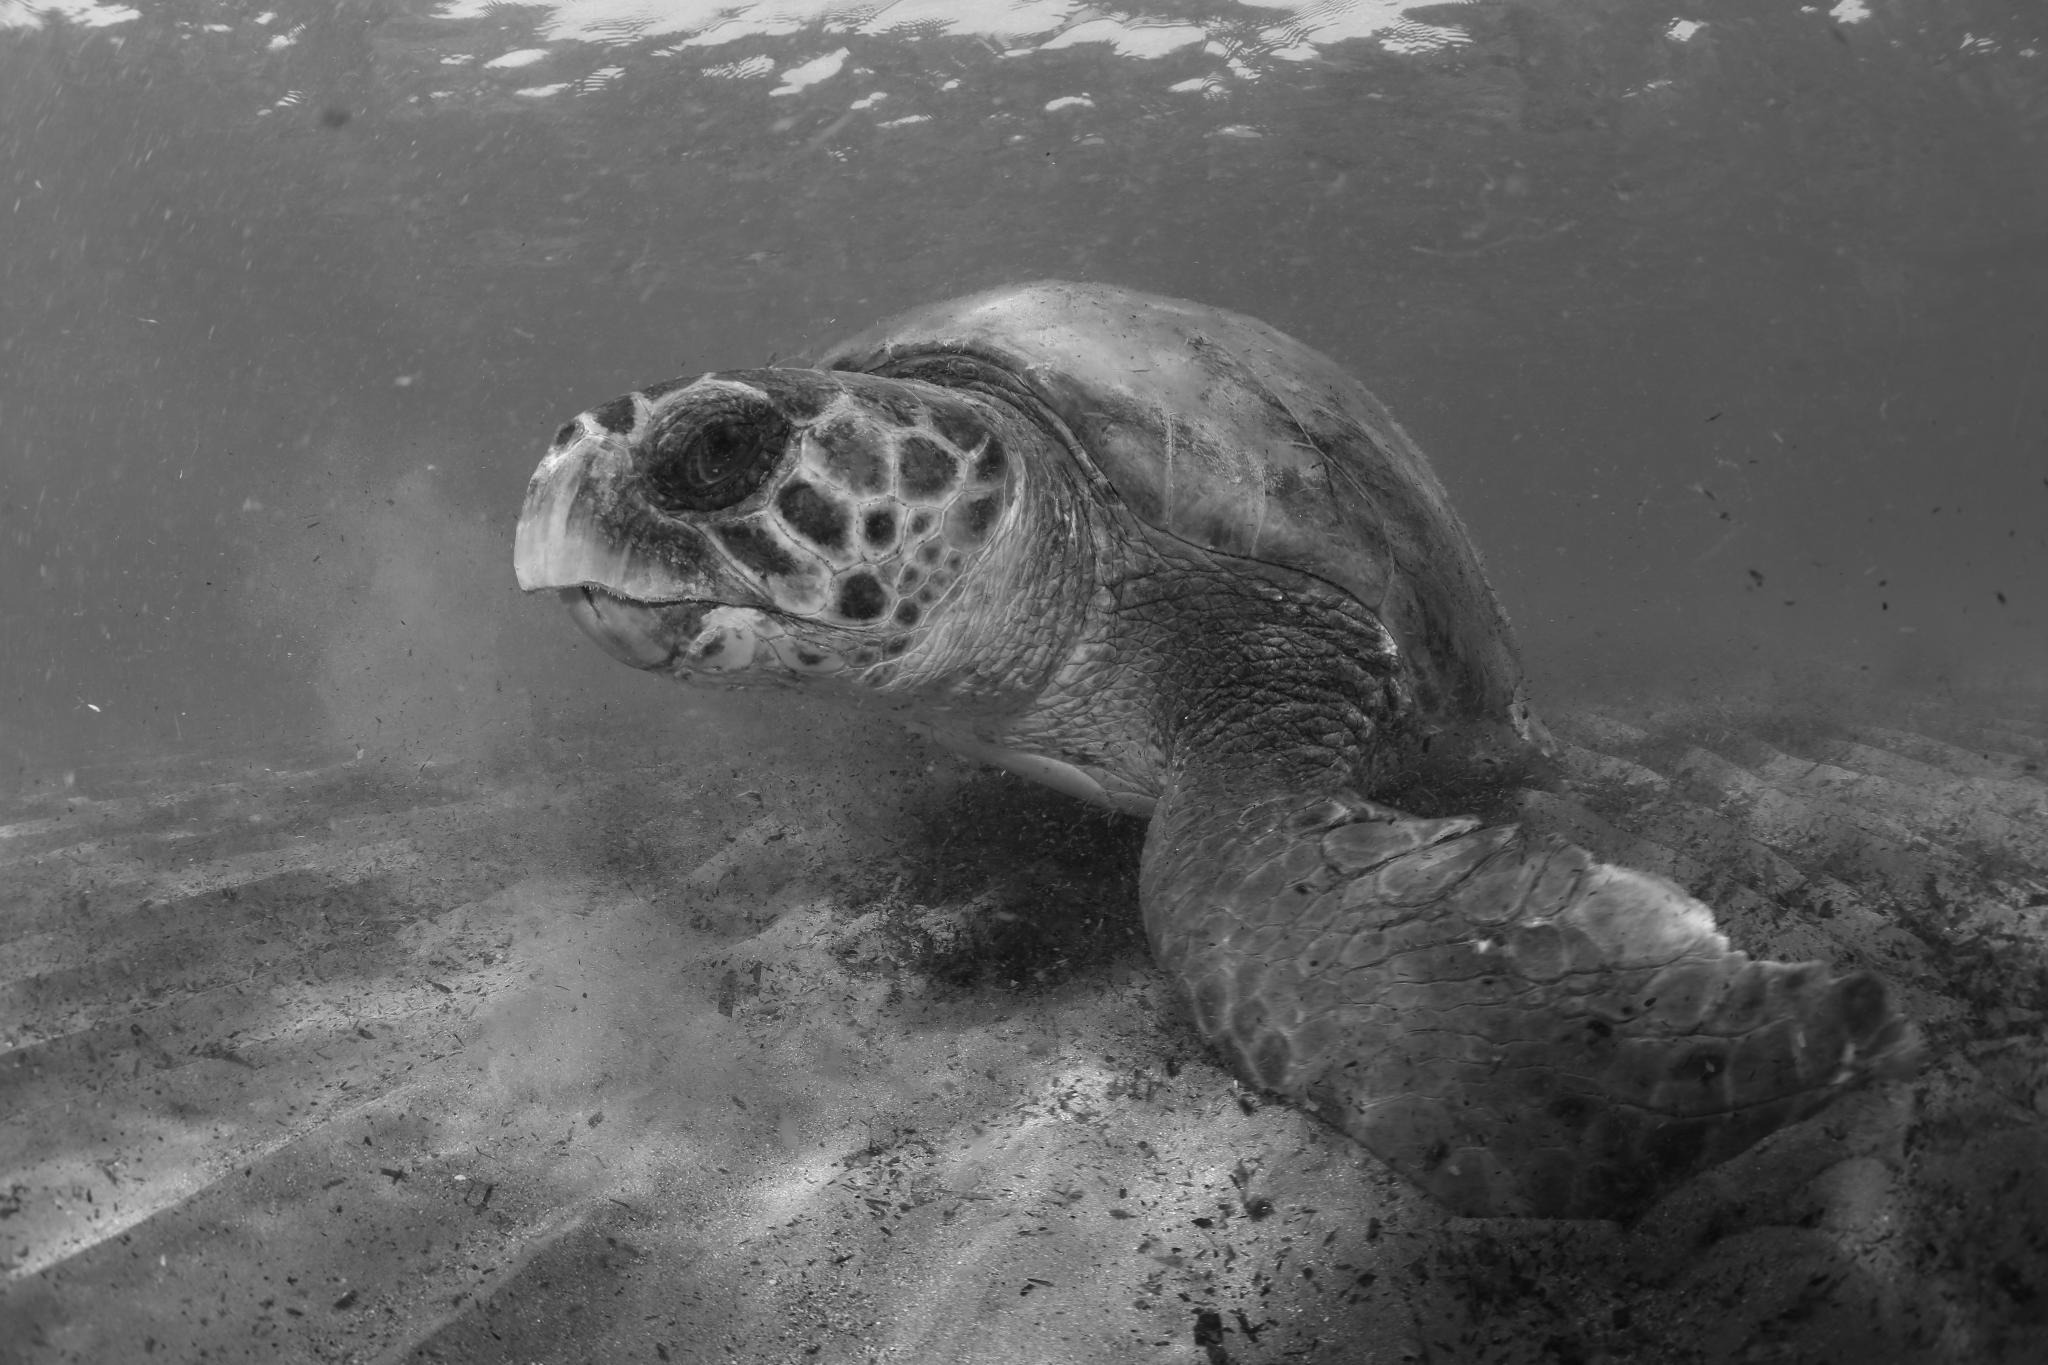Head: (515, 368, 1039, 723)
